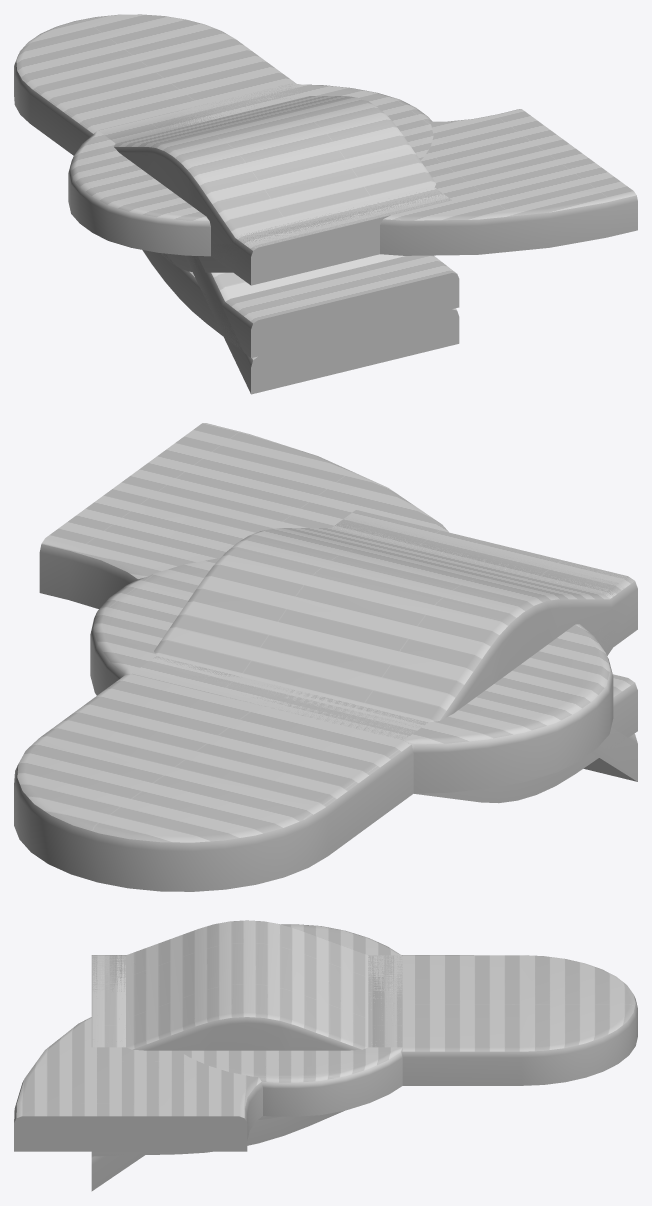
Rendered from Floor_2x3_SoftEdge_thin.fbx.
3 renders of one model, top to bottom at view 1: azimuth 30°, elevation 25°; view 2: azimuth 150°, elevation 25°; view 3: azimuth 270°, elevation 25°, orthographic. The views are drawn at different scales.
Parts seen in each view (by area): view 1: Floor_2x3_SE_Tn_hill, Floor_2x3_SE_Tn_rotate, Floor_2x3_SE_Tn_cap, Floor_2x3_SE_Tn_ramp2, Floor_2x3_SE_Tn_circle, Floor_2x3_SE_Tn_ramp1, Floor_2x3_SE_Tn_deep; view 2: Floor_2x3_SE_Tn_hill, Floor_2x3_SE_Tn_cap, Floor_2x3_SE_Tn_rotate, Floor_2x3_SE_Tn_circle, Floor_2x3_SE_Tn_main, Floor_2x3_SE_Tn_ramp2, Floor_2x3_SE_Tn_ramp1, Floor_2x3_SE_Tn_deep; view 3: Floor_2x3_SE_Tn_hill, Floor_2x3_SE_Tn_cap, Floor_2x3_SE_Tn_rotate, Floor_2x3_SE_Tn_circle, Floor_2x3_SE_Tn_deep, Floor_2x3_SE_Tn_ramp2, Floor_2x3_SE_Tn_ramp1, Floor_2x3_SE_Tn_main.
Part boxes in pixels (x1,y1,x2,y2): Floor_2x3_SE_Tn_hill: [93, 96, 451, 285]; Floor_2x3_SE_Tn_rotate: [380, 109, 637, 255]; Floor_2x3_SE_Tn_cap: [14, 14, 295, 155]; Floor_2x3_SE_Tn_ramp2: [142, 250, 459, 358]; Floor_2x3_SE_Tn_circle: [68, 83, 433, 256]; Floor_2x3_SE_Tn_ramp1: [185, 83, 459, 394]; Floor_2x3_SE_Tn_deep: [160, 192, 450, 284]; Floor_2x3_SE_Tn_hill: [125, 510, 637, 750]; Floor_2x3_SE_Tn_cap: [14, 674, 413, 891]; Floor_2x3_SE_Tn_rotate: [39, 423, 448, 608]; Floor_2x3_SE_Tn_circle: [90, 558, 613, 793]; Floor_2x3_SE_Tn_main: [152, 656, 427, 750]; Floor_2x3_SE_Tn_ramp2: [414, 674, 637, 803]; Floor_2x3_SE_Tn_ramp1: [274, 708, 637, 781]; Floor_2x3_SE_Tn_deep: [298, 518, 630, 747]; Floor_2x3_SE_Tn_hill: [91, 920, 402, 1050]; Floor_2x3_SE_Tn_cap: [402, 955, 637, 1085]; Floor_2x3_SE_Tn_rotate: [14, 1017, 262, 1151]; Floor_2x3_SE_Tn_circle: [179, 924, 402, 1116]; Floor_2x3_SE_Tn_deep: [91, 955, 402, 1119]; Floor_2x3_SE_Tn_ramp2: [91, 1110, 344, 1156]; Floor_2x3_SE_Tn_ramp1: [91, 955, 402, 1191]; Floor_2x3_SE_Tn_main: [368, 955, 402, 1005].
Bounding box in the file's own units: 594 × 249 × 803.
